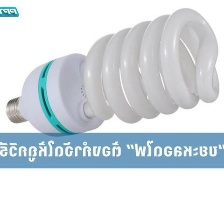light_bulb: (0, 6, 224, 139)
